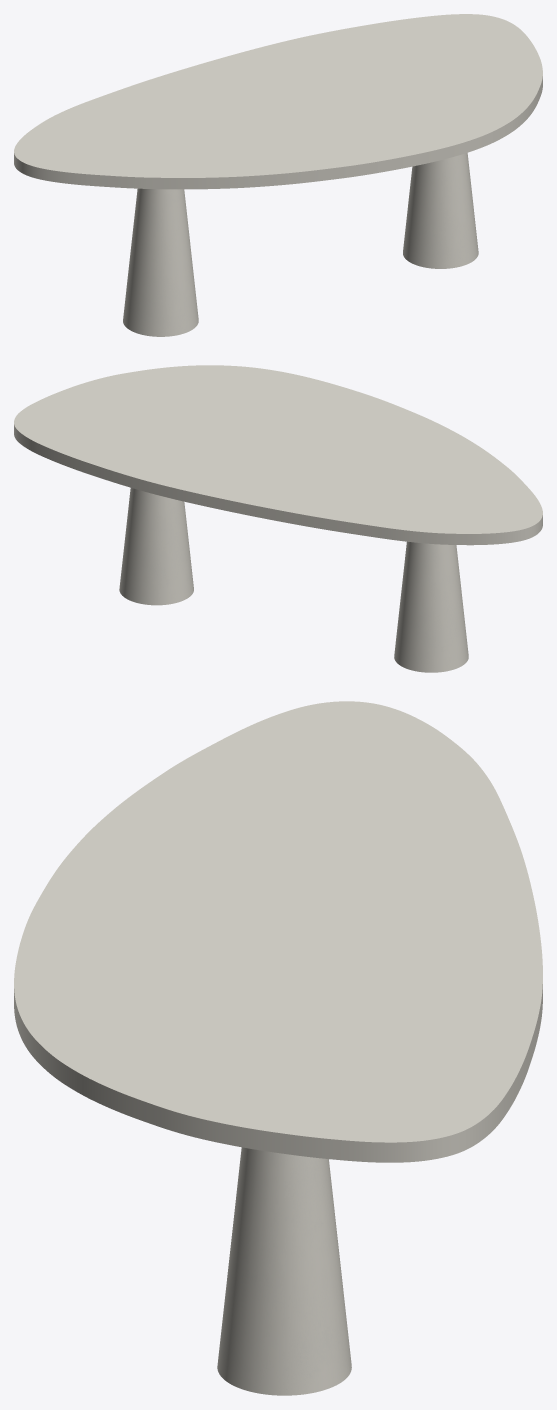
The model's file is pale_pebbletop_standard_pebble.glb.
3 renders of one model, top to bottom at view 1: azimuth 30°, elevation 25°; view 2: azimuth 150°, elevation 25°; view 3: azimuth 270°, elevation 25°, orthographic. The views are drawn at different scales.
Visible parts, largest first — view 1: standard_pebbletop, pebble; view 2: standard_pebbletop, pebble; view 3: standard_pebbletop, pebble.
Part boxes in pixels (x1,y1,x2,y2): standard_pebbletop: (14,14,542,189); pebble: (123,153,478,336); standard_pebbletop: (14,365,542,545); pebble: (119,488,468,672); standard_pebbletop: (14,701,542,1162); pebble: (217,1147,351,1395).
Bounding box in the file's own units: 7.5 × 2.51 × 3.8.
1 material, 1 textured.
